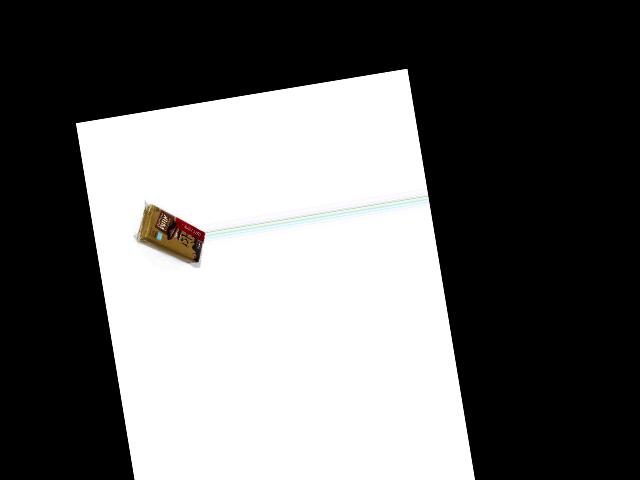chocolate: (130, 189, 208, 272)
